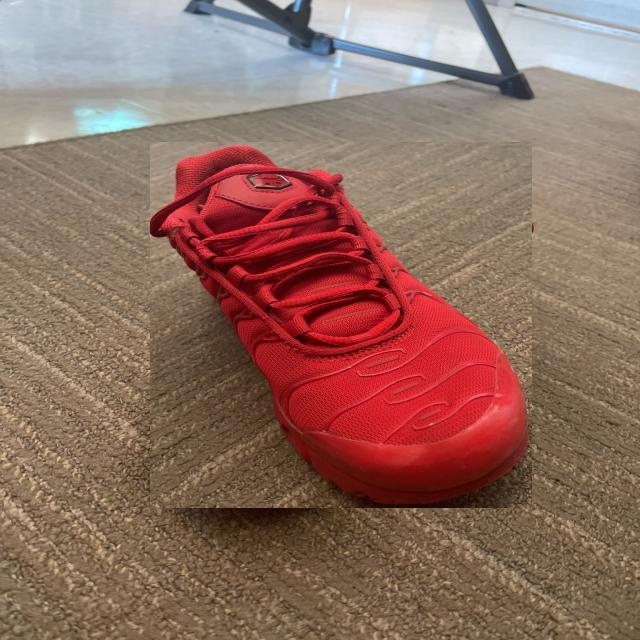shoe: (150, 142, 532, 508)
